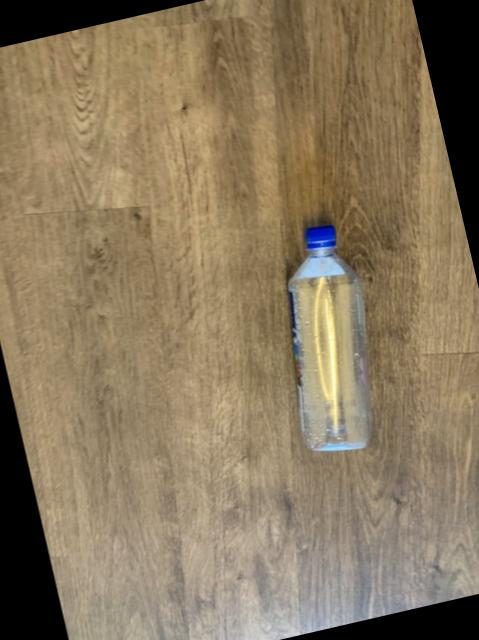plastic: (288, 226, 371, 451)
